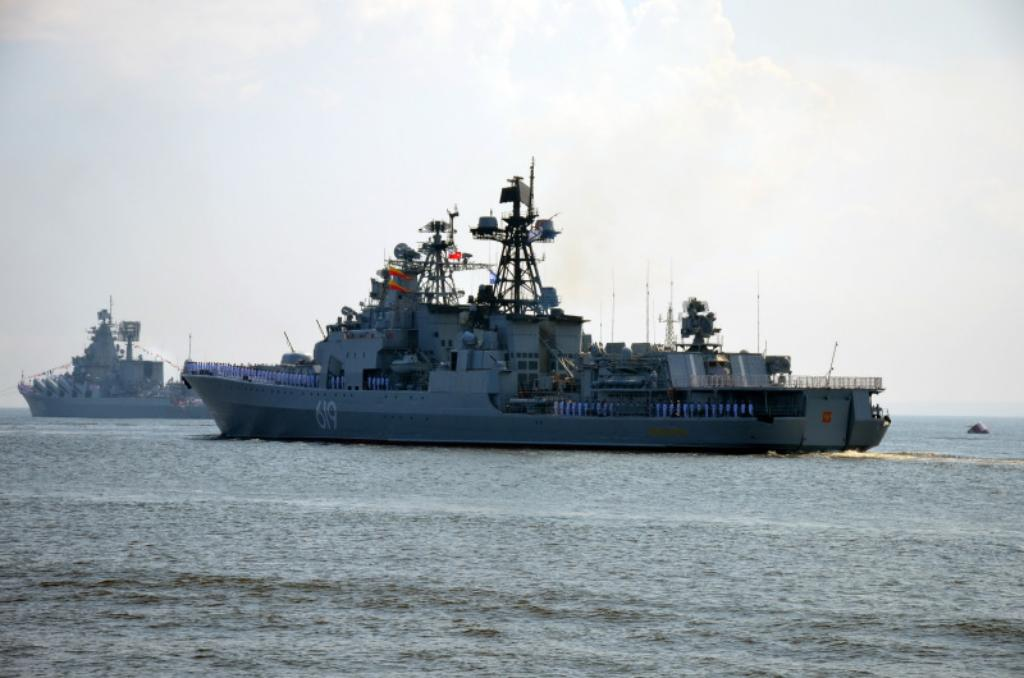Warship: (178, 150, 892, 455), (18, 296, 214, 424)
